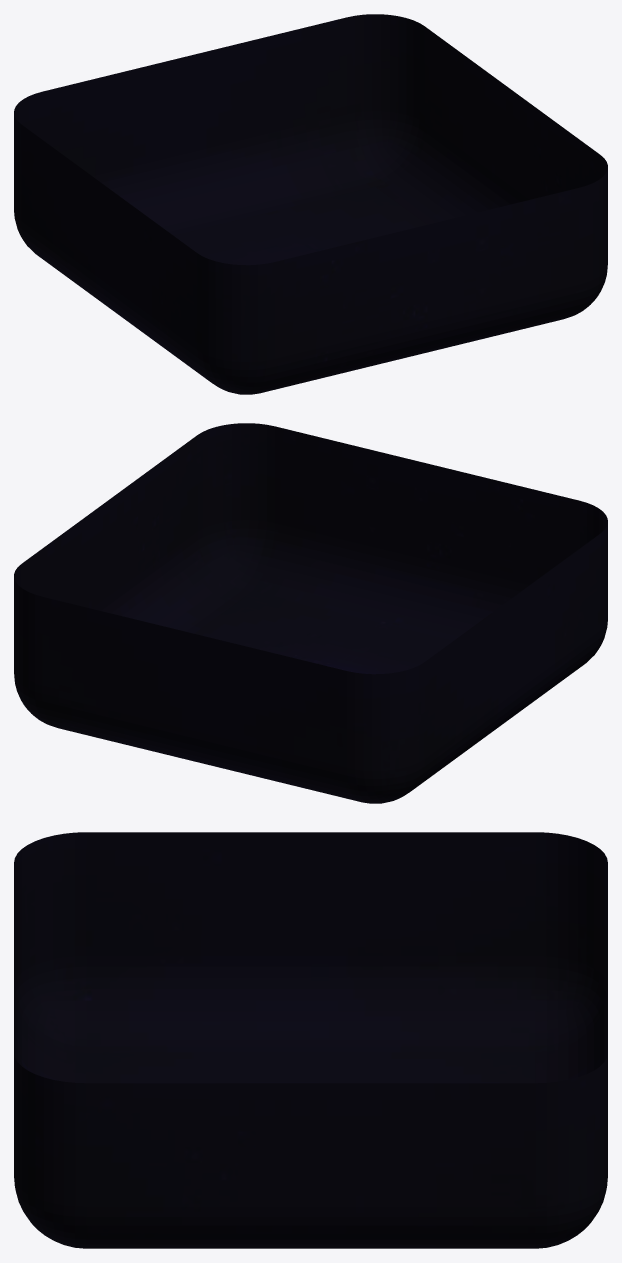
Rendered from plan_outside.glb.
3 renders of one model, top to bottom at view 1: azimuth 30°, elevation 25°; view 2: azimuth 150°, elevation 25°; view 3: azimuth 270°, elevation 25°, orthographic. The views are drawn at different scales.
Parts seen in each view (by area): view 1: plan_outside; view 2: plan_outside; view 3: plan_outside.
Part boxes in pixels (bbox=[...]): plan_outside: bbox=[14, 14, 607, 394]; plan_outside: bbox=[14, 423, 607, 803]; plan_outside: bbox=[14, 832, 607, 1248].
Size of the model in its own units: 568 by 200 by 568.
1 material, 1 textured.
